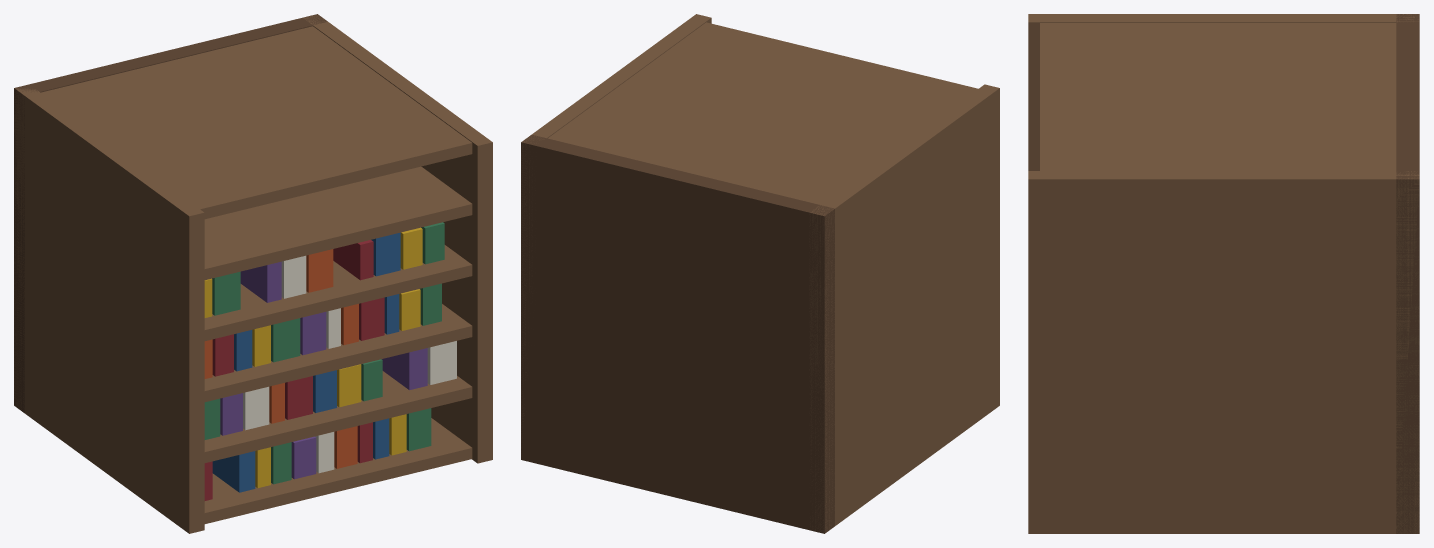
File: bookshelf.gltf
3 renders of one model, left to right at view 1: azimuth 30°, elevation 25°; view 2: azimuth 150°, elevation 25°; view 3: azimuth 270°, elevation 25°, orthographic. The views are drawn at different scales.
Visible parts, largest first — view 1: side_L, shelf_5, book (×39), shelf_4, side_R, shelf_3, shelf_0, shelf_1, back, shelf_2; view 2: back, side_L, shelf_5, side_R; view 3: side_R, shelf_5, back, side_L.
Part boxes in pixels (x1,y1,x2,y2): side_L: [14, 87, 204, 533]; shelf_5: [41, 26, 472, 219]; book (×39): [204, 222, 456, 492]; shelf_4: [204, 166, 472, 280]; side_R: [303, 15, 492, 463]; shelf_3: [204, 245, 472, 340]; shelf_0: [204, 418, 472, 523]; shelf_1: [204, 371, 472, 462]; back: [14, 14, 327, 412]; shelf_2: [204, 304, 472, 401]; back: [521, 134, 834, 533]; side_L: [809, 84, 999, 533]; shelf_5: [548, 22, 978, 204]; side_R: [521, 14, 711, 453]; side_R: [1028, 171, 1419, 533]; shelf_5: [1040, 23, 1396, 170]; back: [1396, 14, 1419, 533]; side_L: [1028, 14, 1419, 170].
Bounding box in the file's own units: 1 × 1 × 1.
